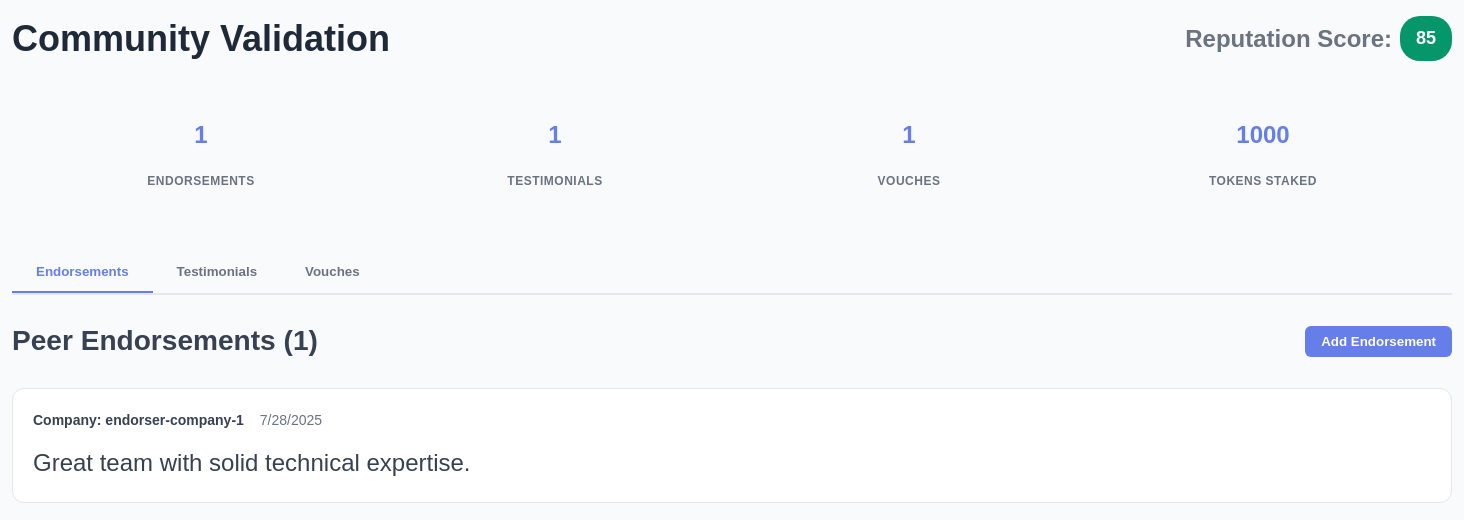
it: CommunityValidation › Vouches Tab › should render existing vouches with weight
Click the button "Vouches" at (332, 273), box x1=281 y1=252 x2=384 y2=293
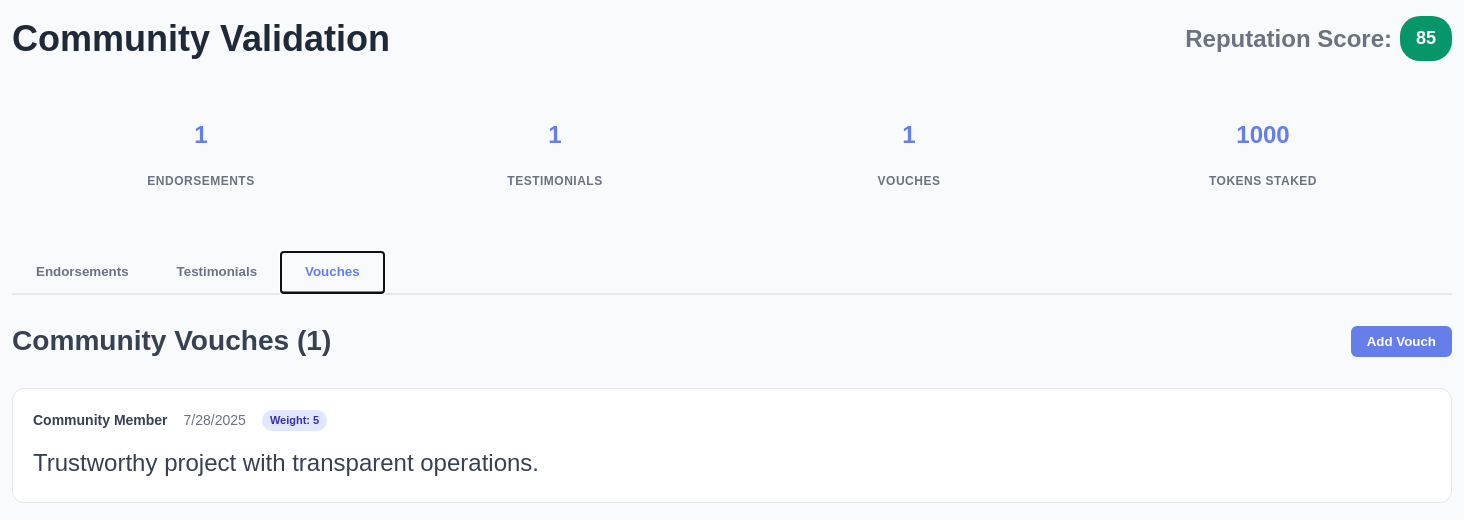
Expected: the text "Trustworthy project with transparent operations." is shown, x1=33 y1=449 x2=539 y2=476
Expected: the text "Community Member" is shown, x1=33 y1=409 x2=168 y2=432
